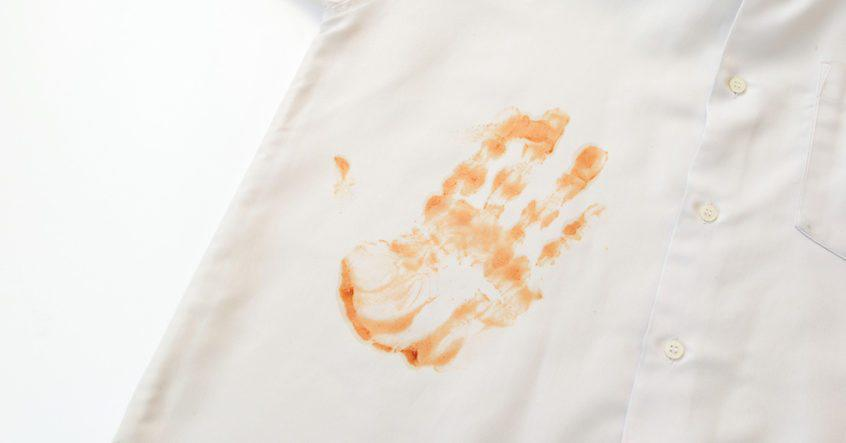gun: (319, 113, 599, 371)
